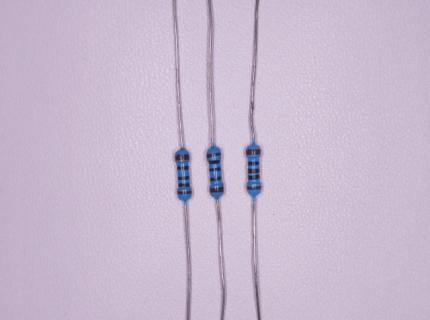Black band: (208, 159, 220, 165), (177, 176, 189, 181), (210, 176, 222, 181), (209, 167, 221, 172), (248, 168, 260, 173), (248, 175, 260, 180), (177, 166, 189, 170), (178, 183, 190, 187), (248, 161, 259, 165)
Brown band: (175, 154, 190, 161), (246, 149, 261, 155), (206, 152, 221, 158), (209, 187, 224, 193), (177, 190, 192, 195), (246, 186, 261, 190)
